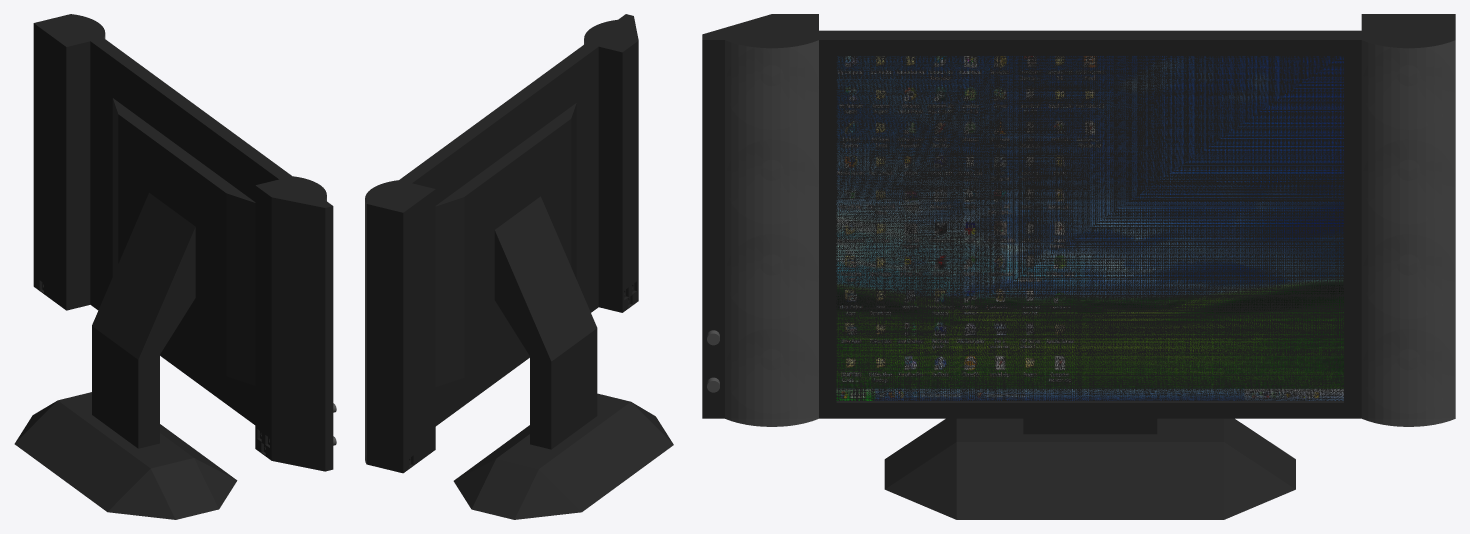
The picture shows the model from 3 angles, left to right: view 1: azimuth 30°, elevation 25°; view 2: azimuth 150°, elevation 25°; view 3: azimuth 270°, elevation 25°; orthographic projection. The views are drawn at different scales.
Visible parts, largest first — view 1: group_1 (×3), group_0 (×2), group_2, group_17; view 2: group_1 (×3), group_0 (×2), group_17 (×3), group_2; view 3: group_1 (×2), image_0, group_2 (×2), group_17 (×2), group_0 (×2).
Boxes of the visible parts, x1=… form: group_1 (×3): x1=90, y1=38, x2=291, y2=424; group_0 (×2): x1=14, y1=193, x2=237, y2=519; group_2: x1=255, y1=176, x2=333, y2=471; group_17: x1=33, y1=14, x2=102, y2=310; group_1 (×3): x1=399, y1=43, x2=598, y2=426; group_0 (×2): x1=453, y1=196, x2=673, y2=519; group_17 (×3): x1=365, y1=180, x2=435, y2=473; group_2: x1=584, y1=14, x2=638, y2=312; group_1 (×2): x1=819, y1=30, x2=1361, y2=418; image_0: x1=836, y1=56, x2=1343, y2=400; group_2 (×2): x1=702, y1=14, x2=818, y2=426; group_17 (×2): x1=1361, y1=14, x2=1455, y2=426; group_0 (×2): x1=884, y1=418, x2=1295, y2=519.
Bounding box in the file's own units: 310 × 946 × 672.
Materials: 7 (1 with a texture image).
